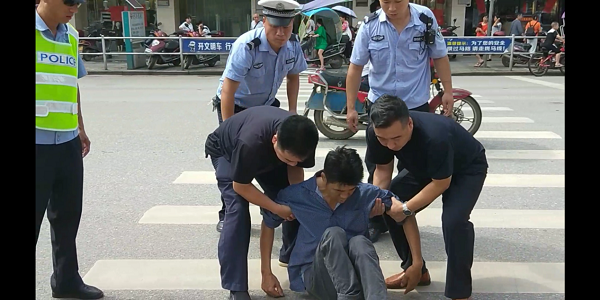10+: (35, 1, 562, 298)
down: (254, 144, 436, 300)
